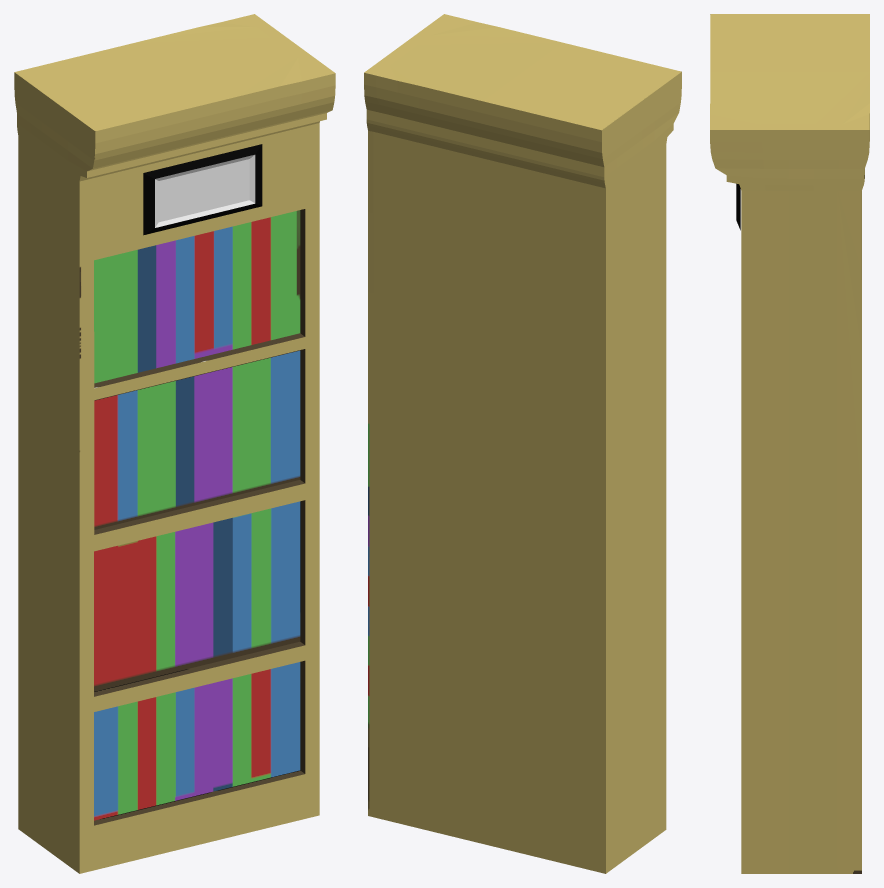
The model's file is bookshelve.fbx.
3 renders of one model, left to right at view 1: azimuth 30°, elevation 25°; view 2: azimuth 150°, elevation 25°; view 3: azimuth 270°, elevation 25°, orthographic.
Visible parts, largest first — view 1: book shelve; view 2: book shelve; view 3: book shelve.
Boxes of the visible parts, left/top/right/bottom form: book shelve: left=14, top=14, right=335, bottom=873; book shelve: left=364, top=14, right=681, bottom=873; book shelve: left=710, top=14, right=869, bottom=873.
Bounding box in the file's own units: 1 × 3 × 0.5843.
Materials: 1 (1 with a texture image).
